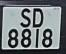1: (33, 28, 41, 49)
8: (7, 27, 21, 50), (20, 28, 33, 49), (42, 27, 54, 49)
D: (32, 7, 45, 29)
S: (19, 8, 32, 29)
